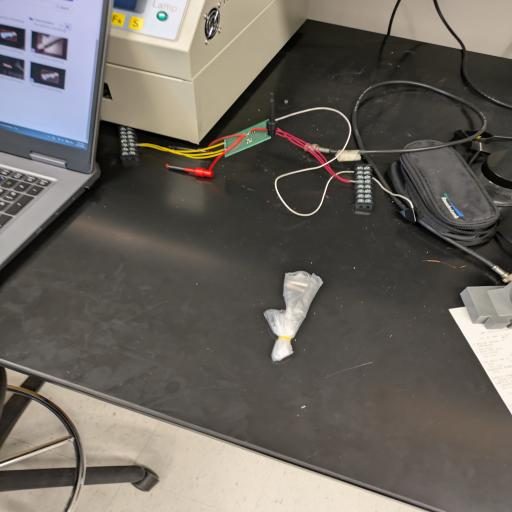rubberband: (262, 270, 327, 363)
